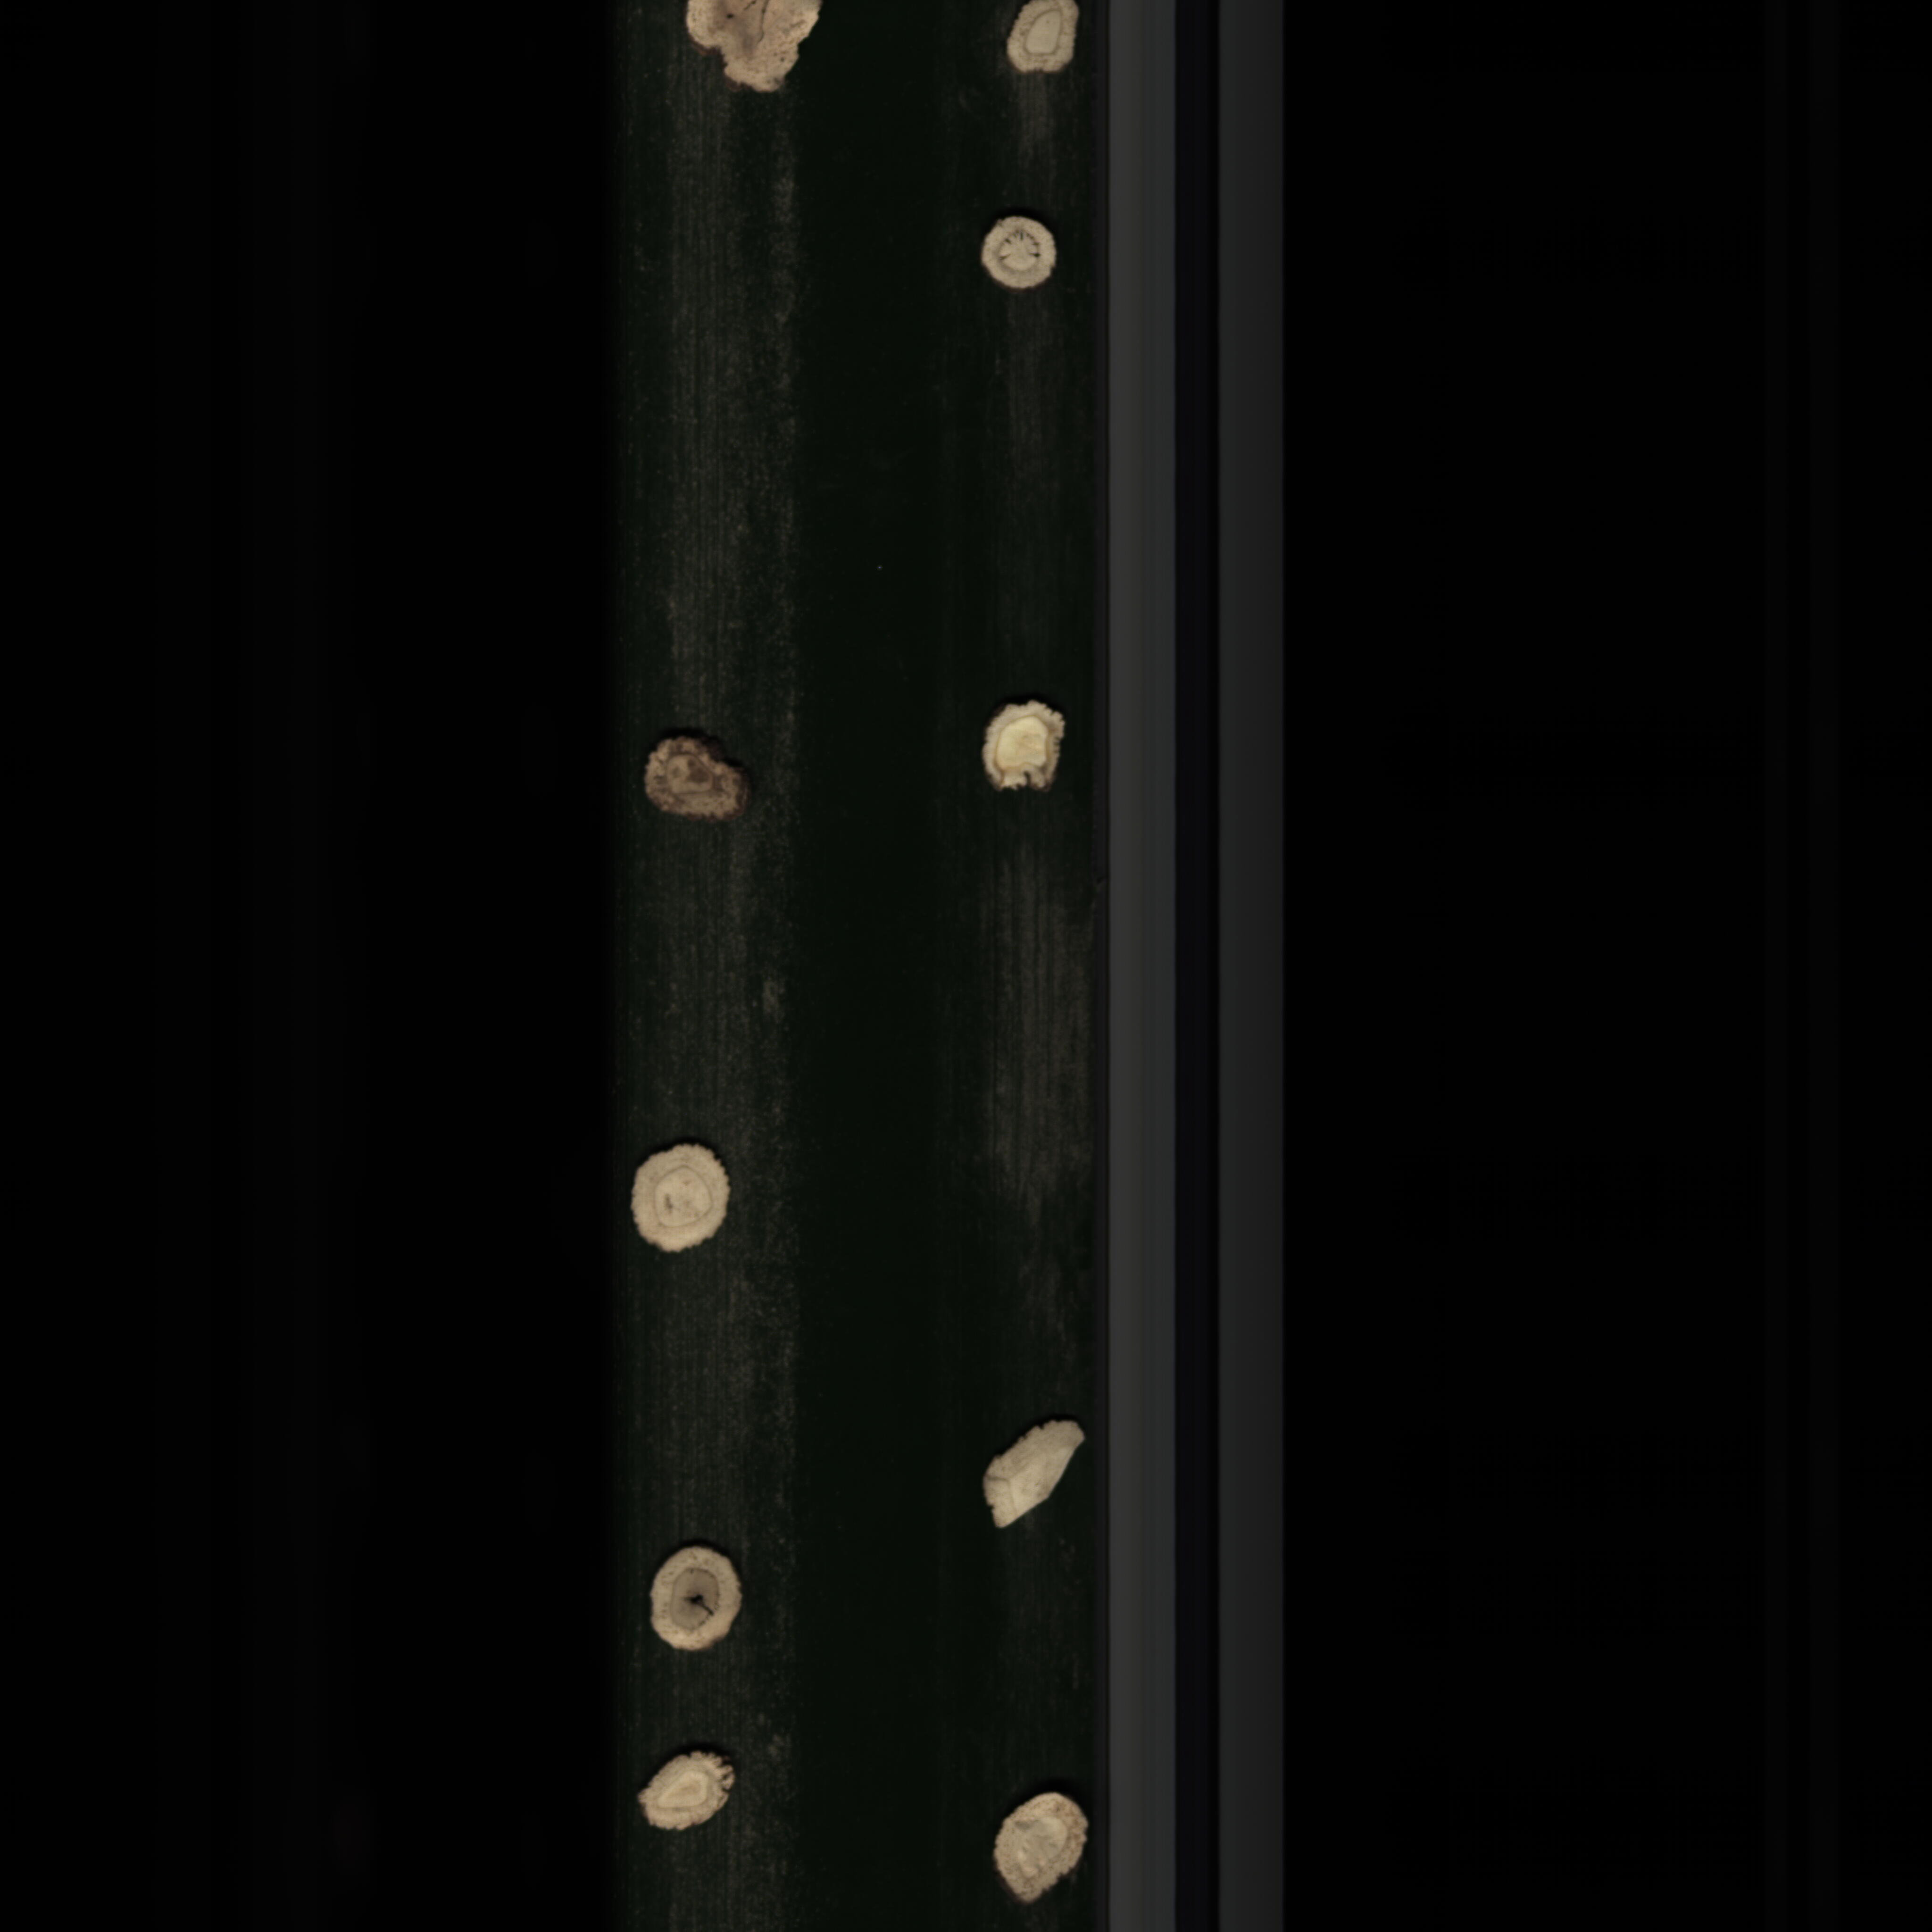debris: (975, 1410, 1088, 1543)
hole: (633, 1534, 754, 1672), (971, 209, 1070, 303)
moldy: (625, 724, 771, 842)
